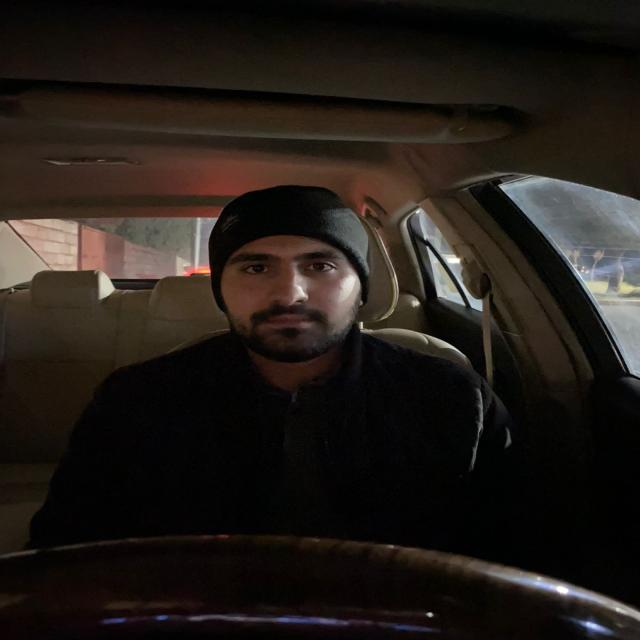person: (203, 170, 378, 377)
